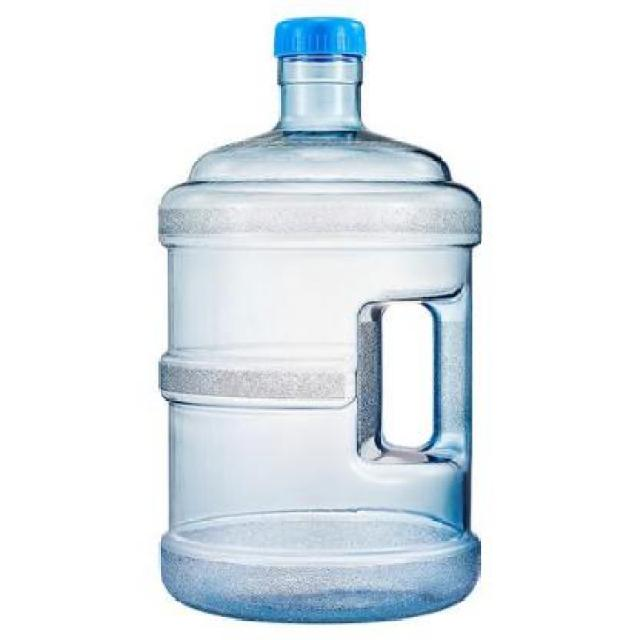coolerbottle: (154, 13, 495, 632)
